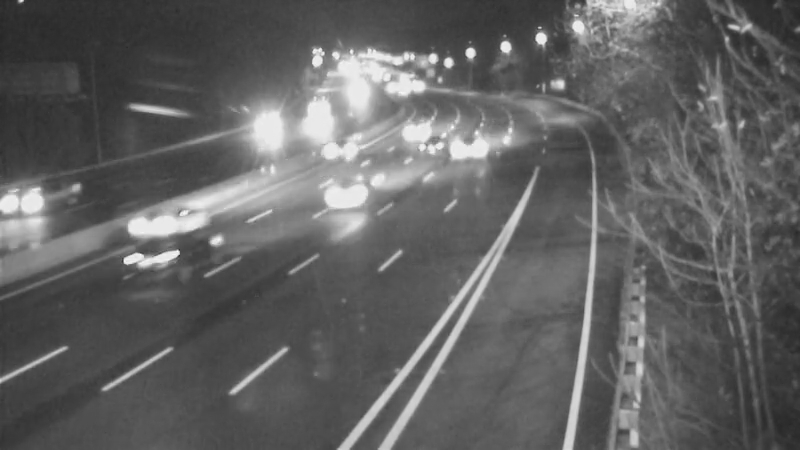vehicle: (291, 157, 371, 237), (110, 174, 190, 254), (111, 215, 191, 295), (1, 164, 75, 244), (390, 103, 440, 153), (445, 124, 495, 174), (406, 121, 456, 171), (311, 120, 361, 170), (237, 107, 287, 157), (294, 98, 344, 148)
